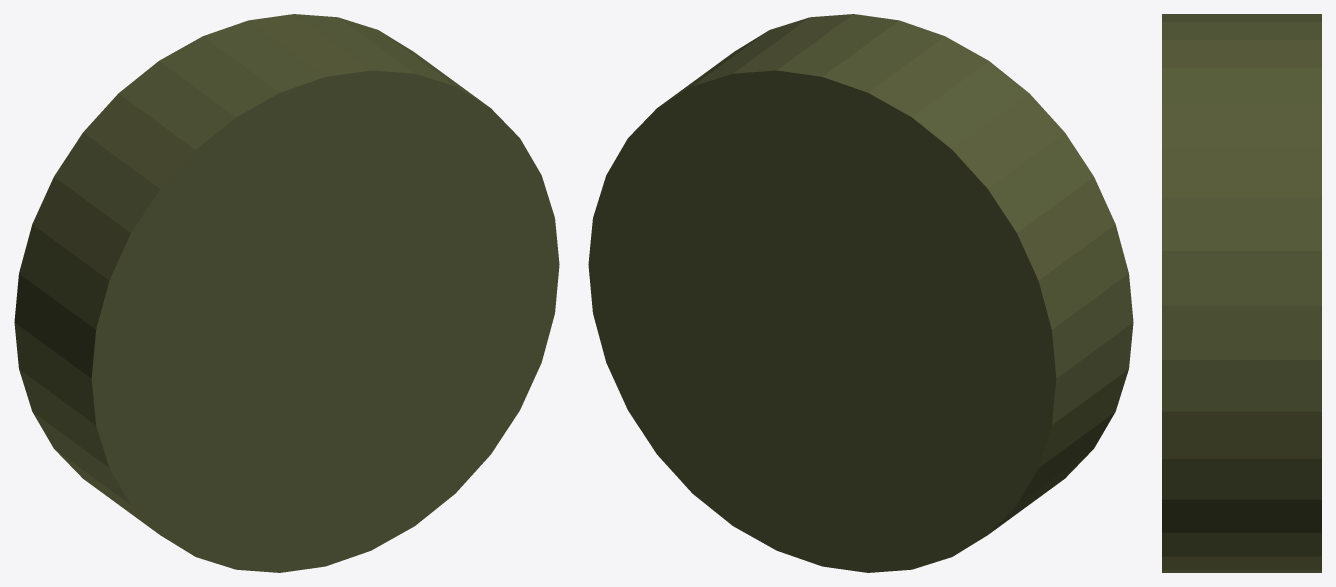
Rendered from wheel_fl.dae.
The picture shows the model from 3 angles, left to right: view 1: azimuth 30°, elevation 25°; view 2: azimuth 150°, elevation 25°; view 3: azimuth 270°, elevation 25°; orthographic projection. The views are drawn at different scales.
Visible parts, largest first — view 1: wheel_fl; view 2: wheel_fl; view 3: wheel_fl.
Part boxes in pixels (x1,y1,x2,y2): wheel_fl: (14, 14, 559, 572); wheel_fl: (588, 14, 1133, 572); wheel_fl: (1162, 14, 1321, 572).
Bounding box in the file's own units: 0.14 × 0.04 × 0.14.
